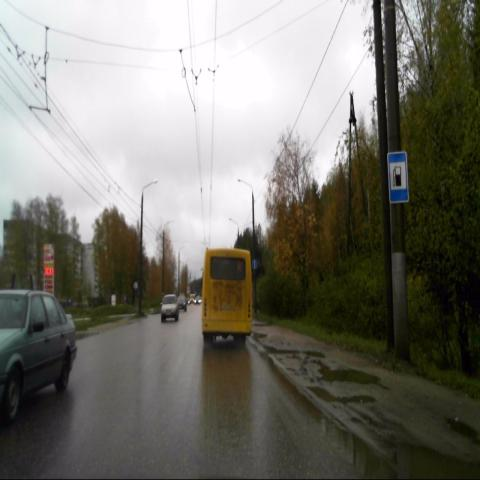7_3: (387, 150, 409, 205)
